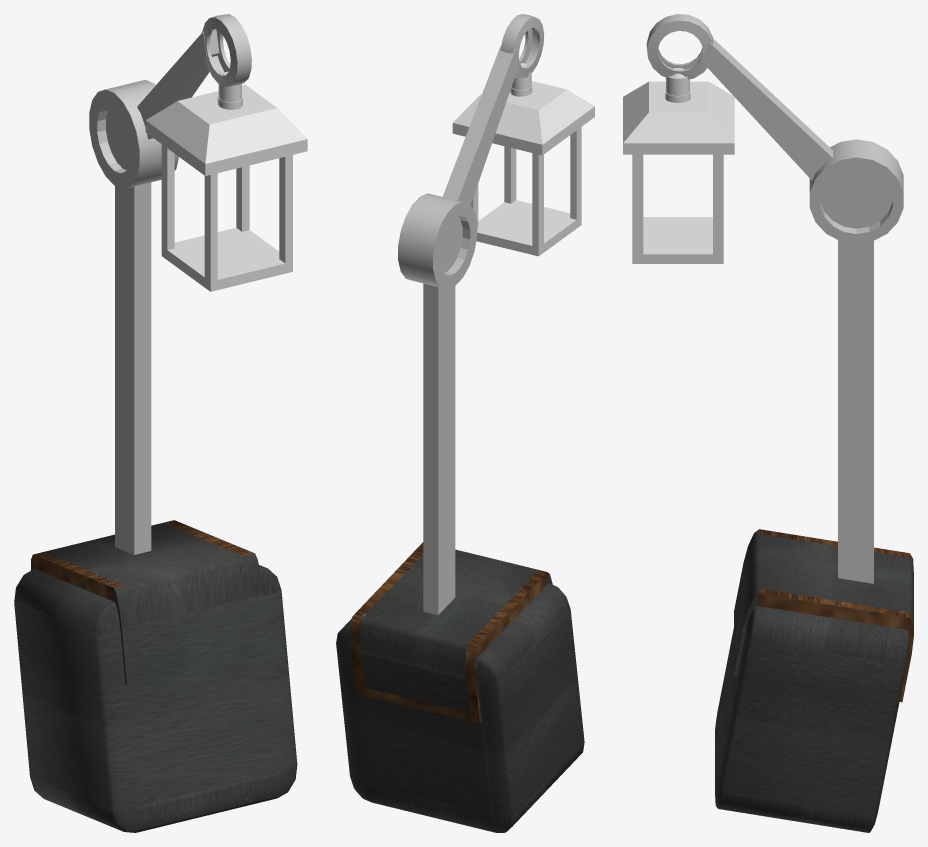
Rendered from LampLight_3DAsset_PodBackpack.FBX.
3 views of the same model, side by side, from view 1: azimuth 30°, elevation 25°; view 2: azimuth 150°, elevation 25°; view 3: azimuth 270°, elevation 25° (orthographic). The views are drawn at different scales.
Visible parts, largest first — view 1: Pod_Backback, LampWoodLower, LampBase, LampLid, WoodRotation, LampWoodUpper, LampHook, LampHanger; view 2: Pod_Backback, LampWoodLower, LampBase, WoodRotation, LampLid, LampWoodUpper, LampHook; view 3: Pod_Backback, LampWoodLower, WoodRotation, LampLid, LampBase, LampWoodUpper, LampHook, LampHanger.
Part boxes in pixels (x1,y1,x2,y2): Pod_Backback: (14, 520, 297, 832); LampWoodLower: (115, 182, 151, 554); LampBase: (161, 144, 292, 291); LampLid: (145, 84, 307, 175); WoodRotation: (89, 79, 178, 188); LampWoodUpper: (137, 29, 219, 139); LampHook: (202, 14, 251, 86); LampHanger: (217, 71, 242, 109); Pod_Backback: (336, 542, 584, 832); LampWoodLower: (423, 283, 455, 615); LampBase: (470, 127, 581, 256); WoodRotation: (398, 193, 477, 289); LampLid: (452, 81, 594, 155); LampWoodUpper: (442, 46, 518, 204); LampHook: (500, 14, 544, 78); Pod_Backback: (715, 529, 913, 832); LampWoodLower: (838, 240, 873, 583); WoodRotation: (809, 139, 903, 243); LampLid: (623, 81, 734, 154); LampBase: (632, 154, 723, 263); LampWoodUpper: (703, 38, 832, 180); LampHook: (646, 14, 713, 79); LampHanger: (665, 68, 690, 102).
Size of the model in its own units: 54.83 by 235 by 79.17.
